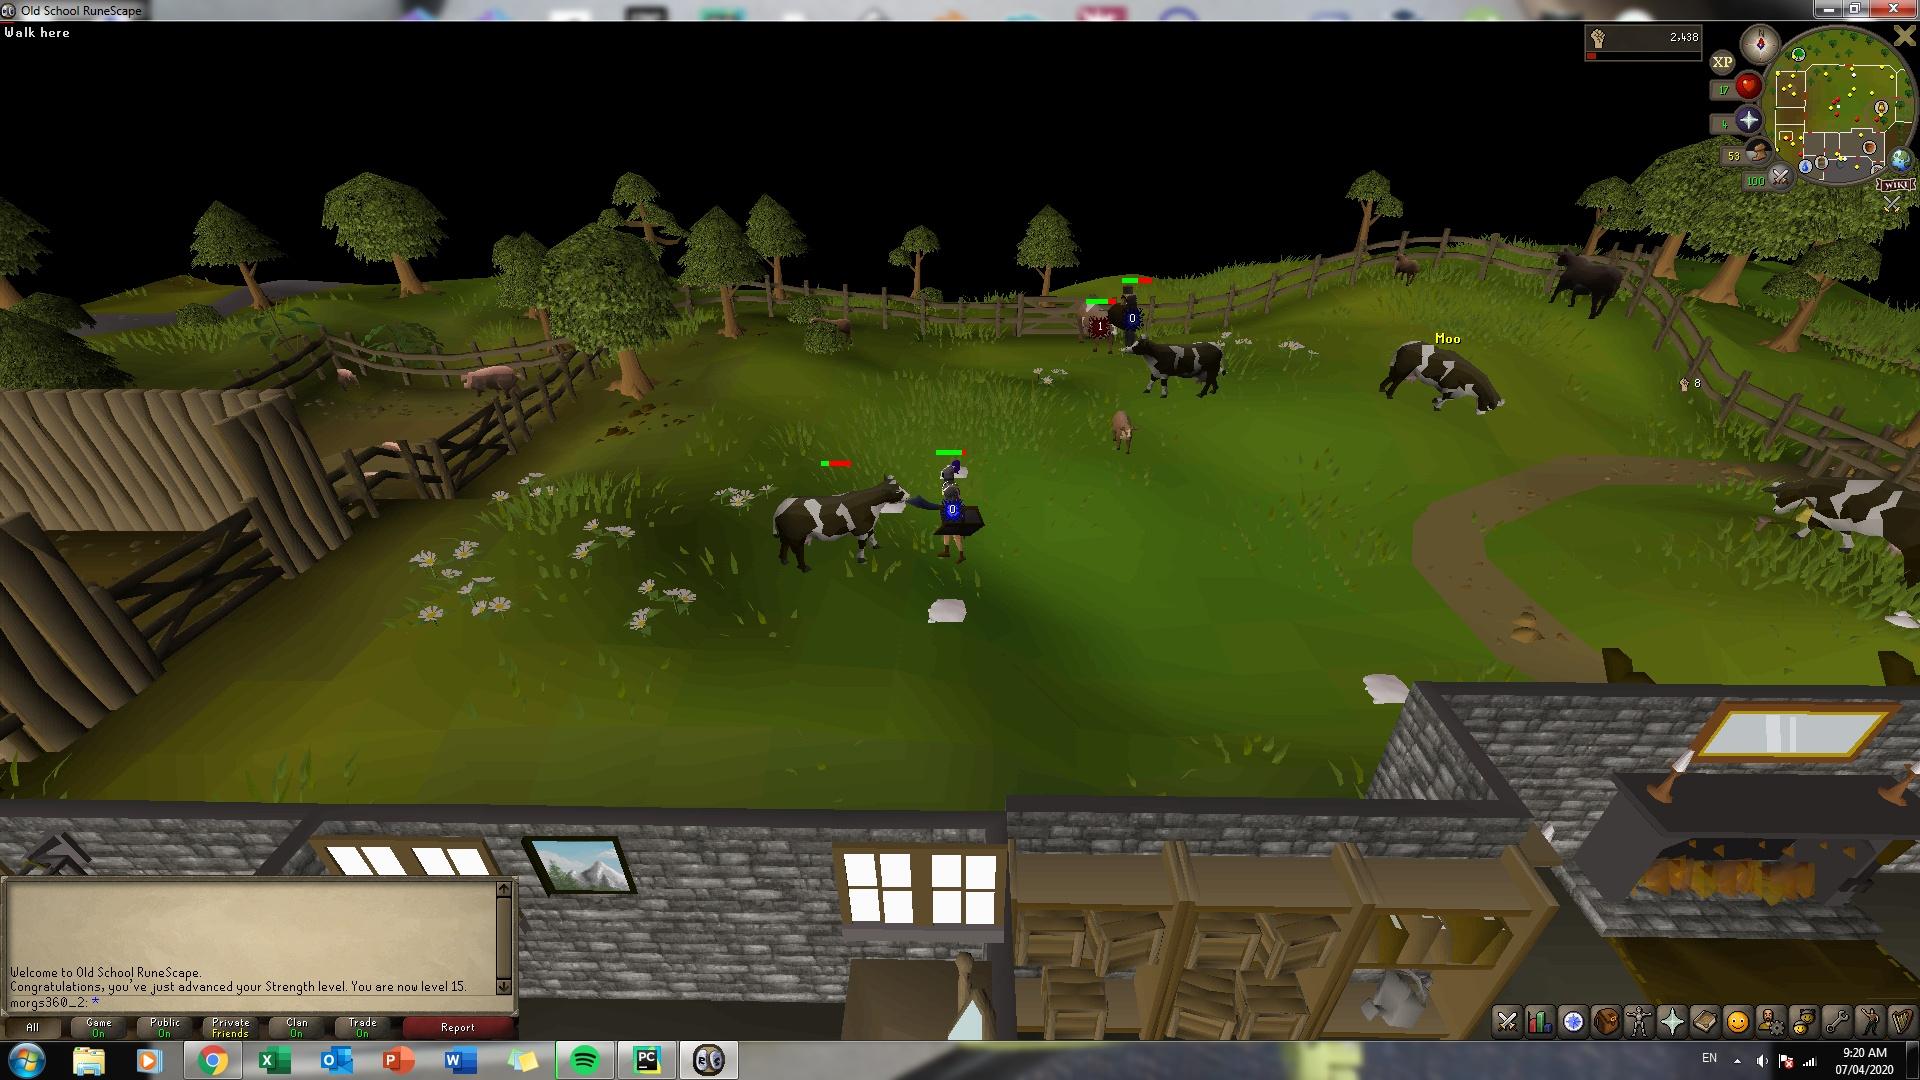cow: (771, 474, 916, 574), (1382, 335, 1509, 420), (1120, 336, 1230, 404), (1543, 250, 1623, 320), (1075, 297, 1107, 354), (1106, 406, 1137, 460), (1386, 249, 1424, 290)
player: (923, 460, 982, 570)
